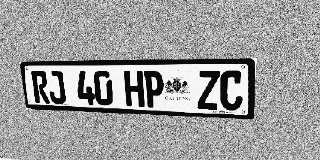0: (93, 71, 113, 106)
4: (76, 71, 95, 105)
C: (220, 70, 244, 111)
H: (124, 70, 144, 107)
J: (47, 71, 66, 104)
P: (143, 70, 164, 108)
R: (31, 71, 50, 103)
Z: (198, 70, 220, 110)
